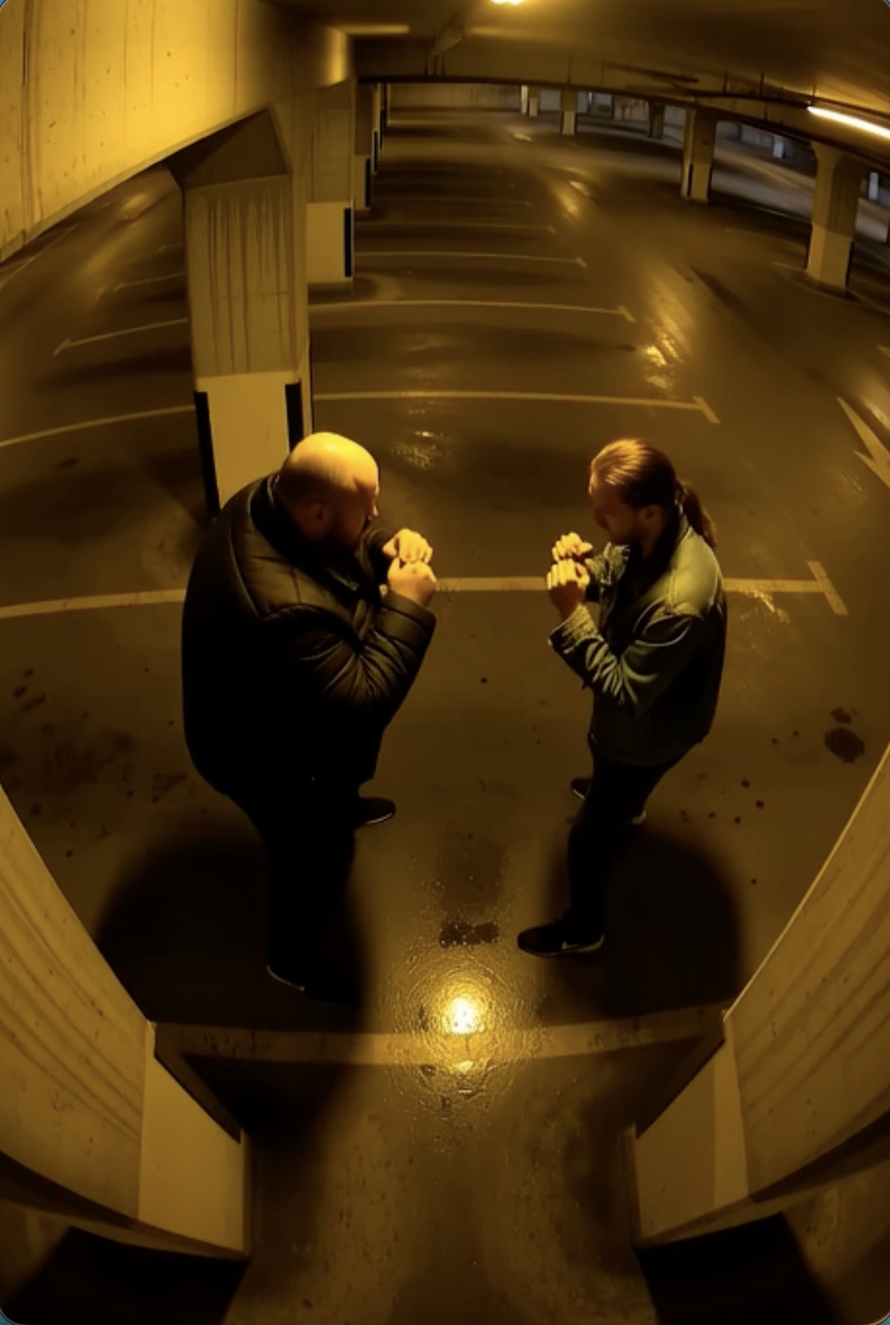Assault: (179, 431, 440, 1010)
Fighting: (516, 437, 728, 959)
